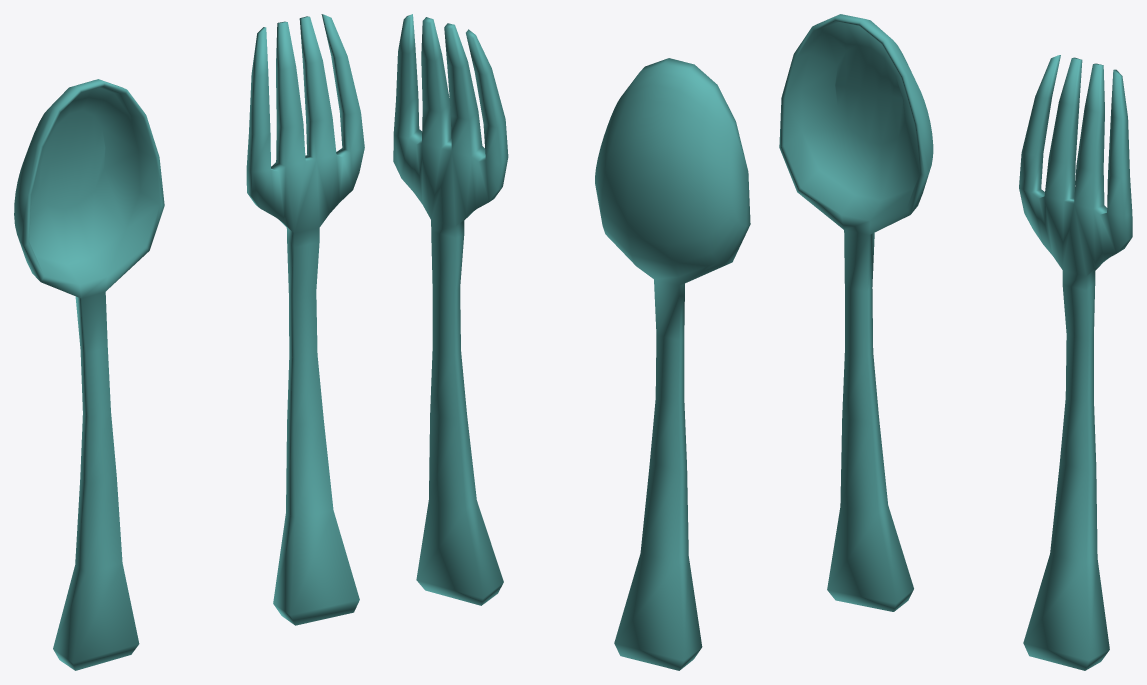
Rendered from SPOON&FORK_03.FBX.
3 views of the same model, side by side, from view 1: azimuth 30°, elevation 25°; view 2: azimuth 150°, elevation 25°; view 3: azimuth 330°, elevation 25° (orthographic).
Visible parts, largest first — view 1: Sphere001, Object001; view 2: Sphere001, Object001; view 3: Sphere001, Object001.
Part boxes in pixels (x1,y1,x2,y2): Sphere001: (14, 79, 164, 670); Object001: (246, 14, 364, 625); Sphere001: (595, 58, 750, 670); Object001: (393, 14, 508, 605); Sphere001: (779, 14, 933, 611); Object001: (1019, 55, 1132, 670).
Size of the model in its own units: 72.96 by 119 by 17.17.
